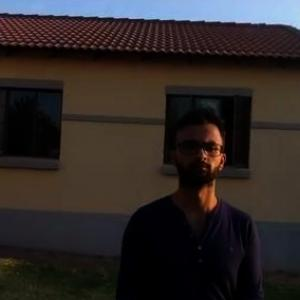follow: (106, 88, 269, 299)
